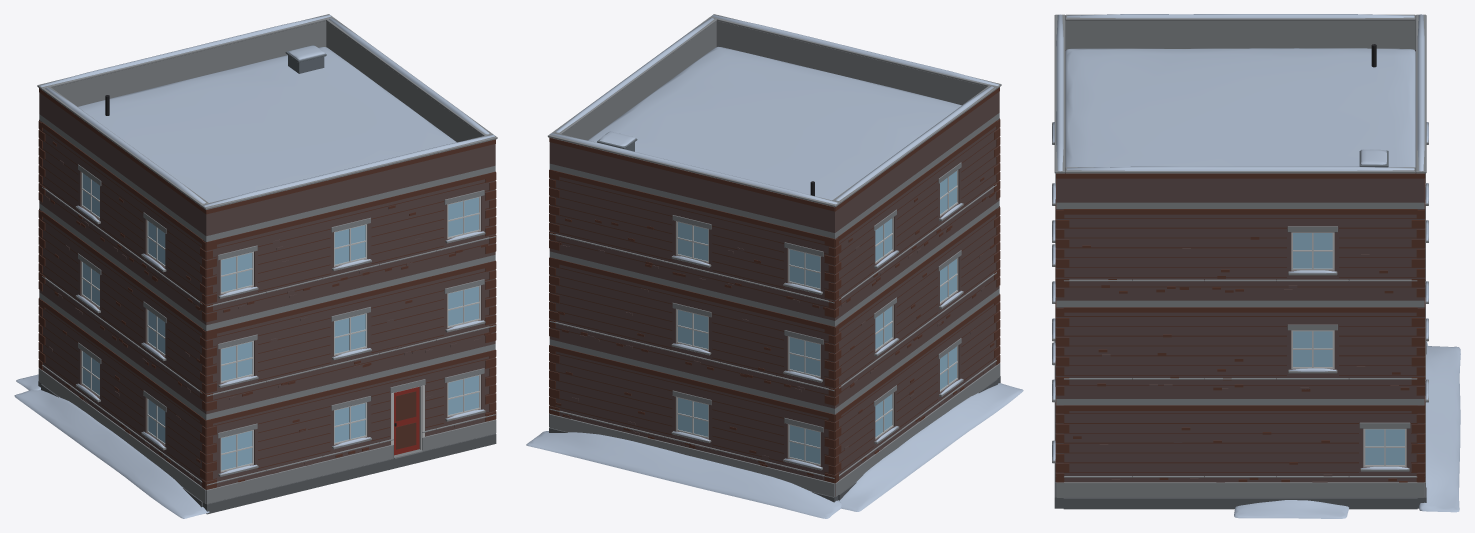
The model's file is apartment_small.glb.
3 renders of one model, left to right at view 1: azimuth 30°, elevation 25°; view 2: azimuth 150°, elevation 25°; view 3: azimuth 270°, elevation 25°, orthographic. The views are drawn at different scales.
Visible parts, largest first — view 1: Roof, Walls2_S, Walls1_S, Walls0_S, Walls2_W, Walls1_W, Walls0_W, Floor0, Walls1_S_Stub, Walls2_S_Stub, Floor1, Floor2 (+17 smaller); view 2: Roof, Walls2_N, Walls1_N, Walls0_N, Floor0, Walls1_W, Walls2_W, Walls0_W, Walls1_N_Stub, Floor1, Floor2, Walls2_N_Stub (+10 smaller); view 3: Roof, Walls0_E, Walls1_E, Walls2_E, Floor0, Walls2_E_Stub, Floor2, Walls1_E_Stub, Floor1, Walls0_E_Stub, Window_5, Walls0_S (+7 smaller).
Boxes of the visible parts, left/top/right/bottom form: Roof: left=37, top=14, right=497, bottom=241; Walls2_S: left=200, top=171, right=496, bottom=325; Walls1_S: left=200, top=260, right=496, bottom=414; Walls0_S: left=200, top=349, right=496, bottom=503; Walls2_W: left=42, top=122, right=202, bottom=322; Walls1_W: left=42, top=211, right=202, bottom=411; Walls0_W: left=42, top=300, right=202, bottom=500; Floor0: left=14, top=374, right=496, bottom=518; Walls1_S_Stub: left=200, top=325, right=495, bottom=413; Walls2_S_Stub: left=200, top=236, right=496, bottom=324; Floor1: left=39, top=292, right=495, bottom=420; Floor2: left=39, top=203, right=495, bottom=330; Roof: left=547, top=14, right=1001, bottom=238; Walls2_N: left=549, top=169, right=841, bottom=320; Walls1_N: left=549, top=257, right=841, bottom=408; Walls0_N: left=549, top=345, right=841, bottom=497; Floor0: left=526, top=376, right=1023, bottom=518; Walls1_W: left=838, top=208, right=996, bottom=405; Walls2_W: left=838, top=121, right=996, bottom=317; Walls0_W: left=838, top=296, right=996, bottom=494; Walls1_N_Stub: left=549, top=321, right=840, bottom=407; Floor1: left=549, top=288, right=999, bottom=414; Floor2: left=549, top=201, right=999, bottom=326; Walls2_N_Stub: left=549, top=233, right=840, bottom=320; Roof: left=1054, top=14, right=1426, bottom=208; Walls0_E: left=1063, top=405, right=1417, bottom=497; Walls1_E: left=1063, top=307, right=1417, bottom=398; Walls2_E: left=1063, top=209, right=1417, bottom=300; Floor0: left=1054, top=341, right=1460, bottom=518; Walls2_E_Stub: left=1063, top=279, right=1417, bottom=300; Floor2: left=1056, top=300, right=1424, bottom=307; Walls1_E_Stub: left=1064, top=378, right=1417, bottom=398; Floor1: left=1056, top=399, right=1424, bottom=405; Walls0_E_Stub: left=1064, top=476, right=1417, bottom=482; Window_5: left=1365, top=429, right=1404, bottom=464; Walls0_S: left=1052, top=318, right=1069, bottom=497.
Size of what is drawn, in the model's own units: 11.87 by 10.4 by 11.32.
